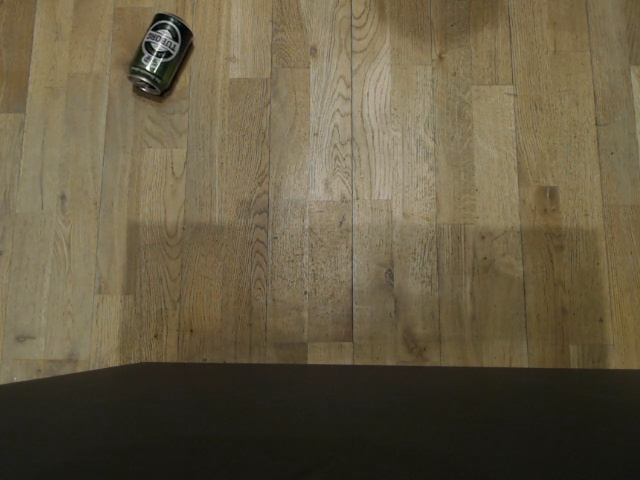beer: (124, 8, 197, 99)
